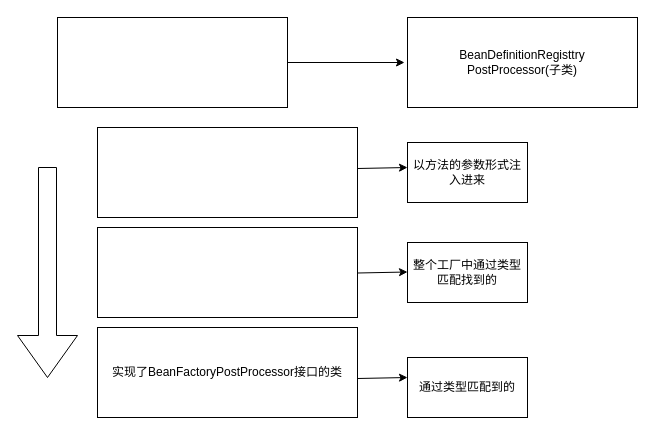
This 655x435 diagram has some shape labels left out. Each missing label, with the box of its shape:
BeanFactoryPostProcessor: (56, 16, 288, 108)
实现了BeanDefinitionRegisttryPostProcessor接口的类: (96, 226, 358, 318)
用户手动添加的BeanFactoryPostProcessor: (96, 126, 358, 218)
